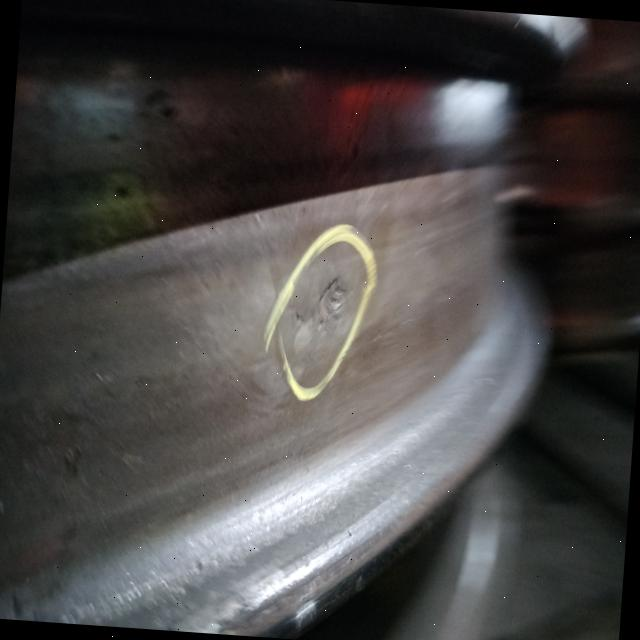Blue hole: (297, 272, 357, 350)
